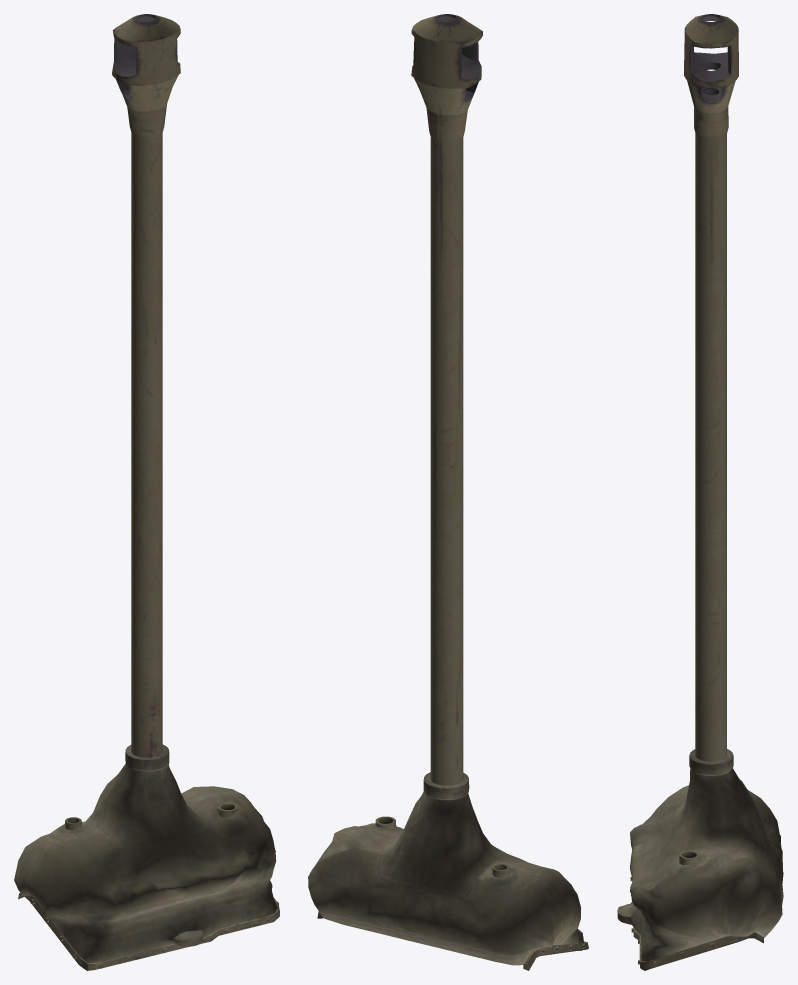
Rendered from Gun_09.glb.
The picture shows the model from 3 angles, left to right: view 1: azimuth 30°, elevation 25°; view 2: azimuth 150°, elevation 25°; view 3: azimuth 270°, elevation 25°; orthographic projection. The views are drawn at different scales.
Visible parts, largest first — view 1: set_0_group_0; view 2: set_0_group_0; view 3: set_0_group_0.
Part boxes in pixels (box(x1,y1,x2,y2)): set_0_group_0: box(14, 14, 279, 970); set_0_group_0: box(308, 14, 588, 970); set_0_group_0: box(617, 14, 783, 970).
Bounding box in the file's own units: 1.51 × 5.6 × 0.929.
Materials: 1 (1 with a texture image).
